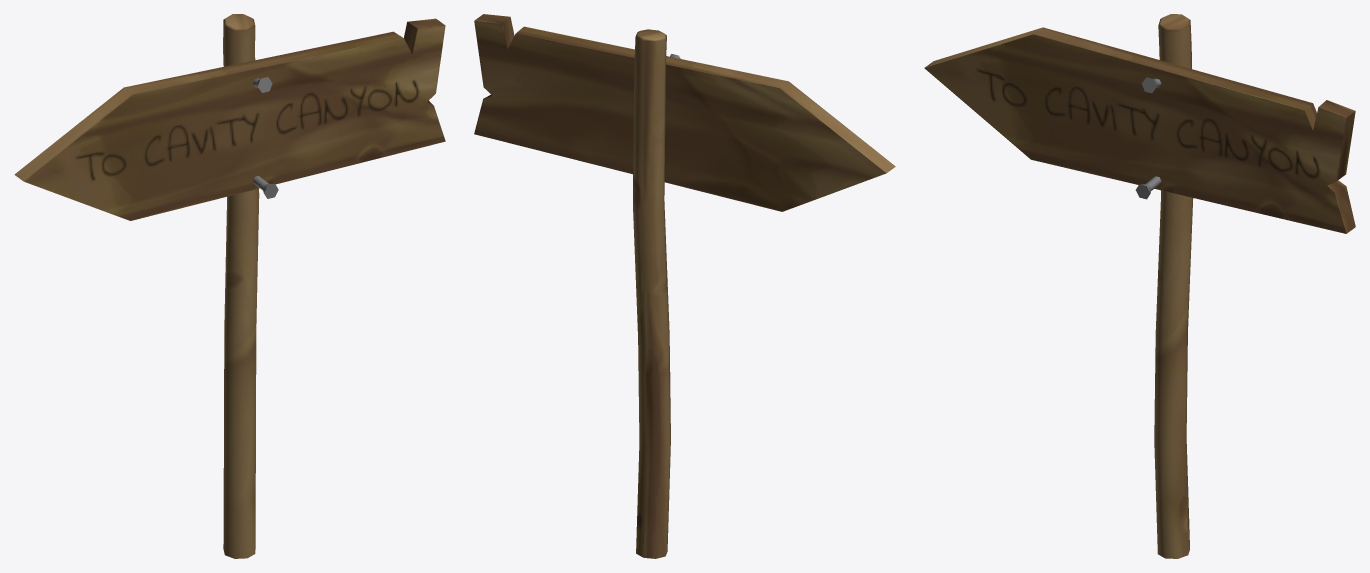
Rendered from SignToCavityCanyon.fbx.
The picture shows the model from 3 angles, left to right: view 1: azimuth 30°, elevation 25°; view 2: azimuth 150°, elevation 25°; view 3: azimuth 330°, elevation 25°; orthographic projection. The views are drawn at different scales.
Parts seen in each view (by area): view 1: SignToCavityCanyon; view 2: SignToCavityCanyon; view 3: SignToCavityCanyon.
Boxes of the visible parts, left/top/right/bottom form: SignToCavityCanyon: left=14, top=14, right=445, bottom=558; SignToCavityCanyon: left=474, top=14, right=895, bottom=558; SignToCavityCanyon: left=924, top=14, right=1355, bottom=558.
Bounding box in the file's own units: 73.15 × 88.23 × 12.28.
